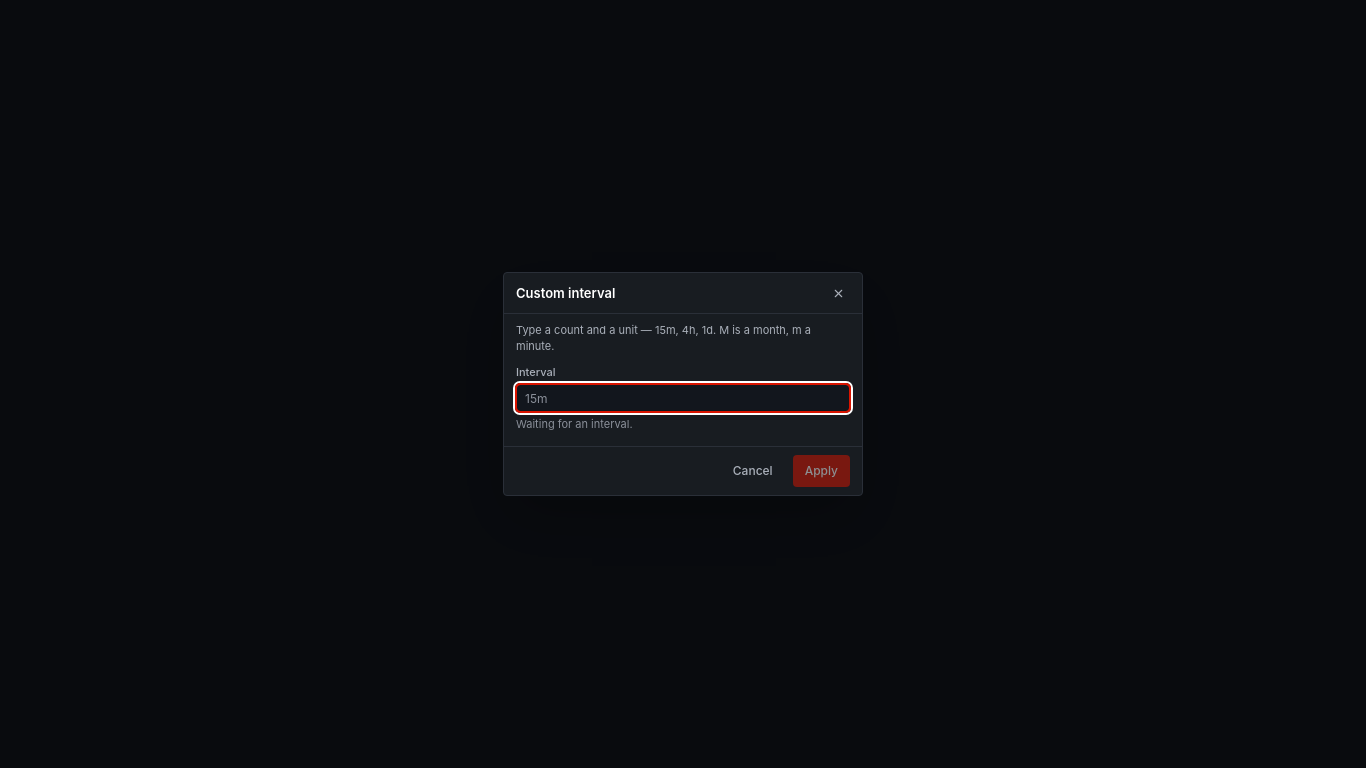
Test: IntervalDialog › refuses an interval the data cannot serve, and says why
The width and height of the screenshot is (1366, 768).
Type "7m" into the field labelled "Interval" at [683, 398], box [516,384,850,412]
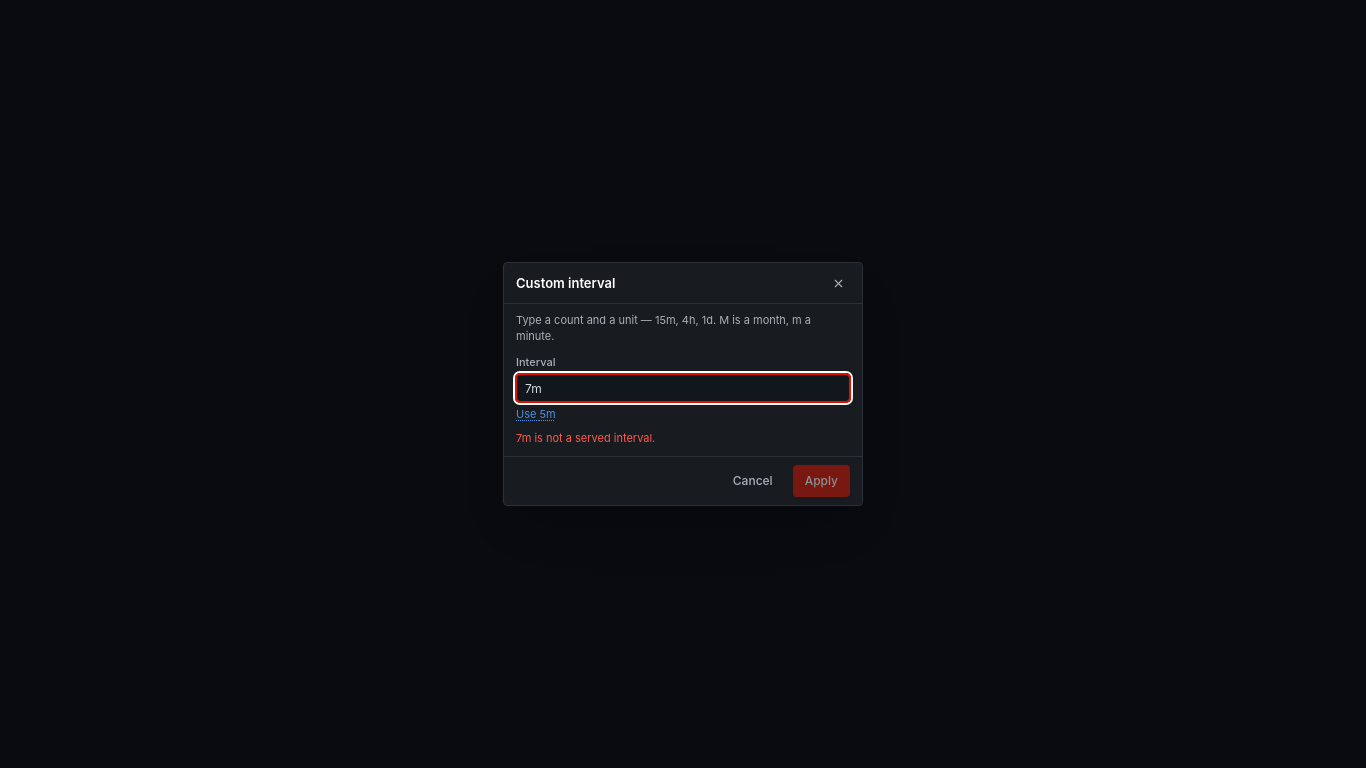
Now the text "7m is not a served interval." is shown, box [516,431,655,445]
